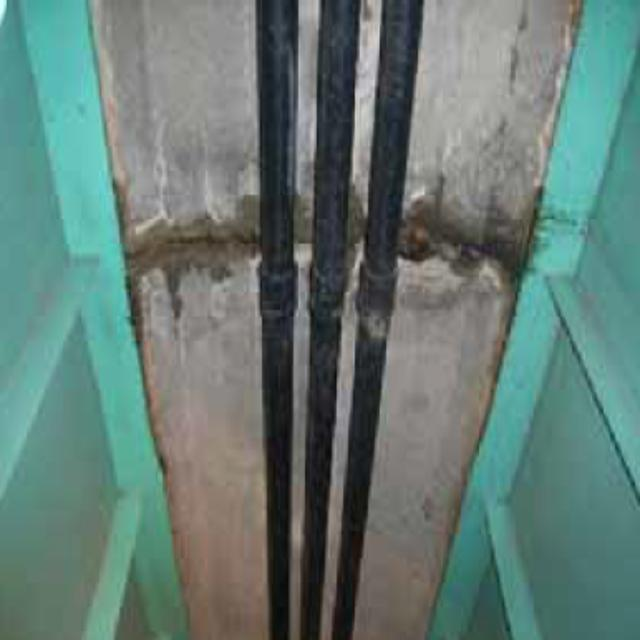leakage: (106, 179, 528, 300)
